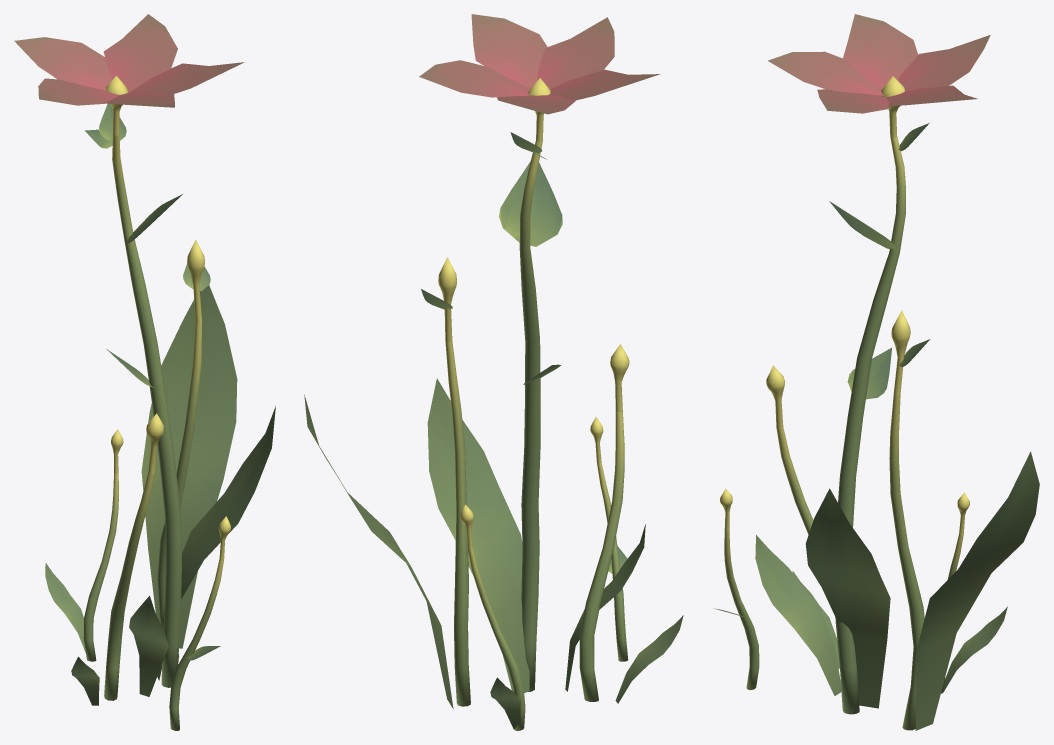
The model's file is flowersSTG2.fbx.
3 renders of one model, left to right at view 1: azimuth 30°, elevation 25°; view 2: azimuth 150°, elevation 25°; view 3: azimuth 270°, elevation 25°, orthographic. The views are drawn at different scales.
Parts seen in each view (by area): view 1: COPY flower bud leaf bend small.005, flower bud2, COPY flower bud leaf bend small.007, Plane.004, flower bud2.003, flower bud2.004, Plane.003, COPY flower bud leaf bend small.006, flower bud2.005, flower bud2.016, Plane, Plane.002 (+5 smaller); view 2: COPY flower bud leaf bend small.007, flower bud2, flower bud2.004, flower bud2.003, Plane, Plane.001, COPY flower leaf1, Plane.004, COPY flower bud leaf bend small.005, flower bud2.005, flower bud2.016, Plane.002 (+4 smaller); view 3: COPY flower bud leaf bend small.005, COPY flower bud leaf bend small.007, flower bud2, COPY flower bud leaf bend small.006, flower bud2.004, Plane.002, Plane.001, Plane.003, flower bud2.016, flower bud2.003, Plane, Plane.004 (+4 smaller).
Part boxes in pixels (x1,y1,x2,y2): COPY flower bud leaf bend small.005: [141, 285, 237, 648]; flower bud2: [105, 76, 181, 687]; COPY flower bud leaf bend small.007: [157, 406, 275, 680]; Plane.004: [103, 14, 177, 92]; flower bud2.003: [104, 413, 163, 700]; flower bud2.004: [157, 239, 204, 657]; Plane.003: [14, 37, 112, 90]; COPY flower bud leaf bend small.006: [129, 595, 168, 696]; flower bud2.005: [83, 429, 123, 661]; flower bud2.016: [169, 516, 230, 730]; Plane: [129, 62, 244, 93]; Plane.002: [38, 78, 118, 105]; COPY flower bud leaf bend small.007: [427, 378, 529, 692]; flower bud2: [519, 78, 550, 691]; flower bud2.004: [438, 257, 470, 706]; flower bud2.003: [579, 344, 629, 701]; Plane: [471, 14, 547, 88]; Plane.001: [537, 17, 614, 88]; COPY flower leaf1: [499, 161, 562, 246]; Plane.004: [419, 60, 530, 97]; COPY flower bud leaf bend small.005: [304, 395, 453, 709]; flower bud2.005: [460, 504, 525, 730]; flower bud2.016: [590, 417, 628, 661]; Plane.002: [549, 69, 660, 100]; COPY flower bud leaf bend small.005: [915, 451, 1039, 730]; COPY flower bud leaf bend small.007: [805, 488, 890, 708]; flower bud2: [835, 76, 905, 714]; COPY flower bud leaf bend small.006: [755, 535, 841, 695]; flower bud2.004: [889, 310, 924, 730]; Plane.002: [843, 14, 918, 89]; Plane.001: [768, 51, 883, 95]; Plane.003: [898, 35, 990, 91]; flower bud2.016: [720, 488, 759, 689]; flower bud2.003: [766, 365, 813, 534]; Plane: [817, 89, 889, 113]; Plane.004: [886, 85, 977, 106].
Size of the model in its own units: 24.6 by 55.58 by 26.07.
